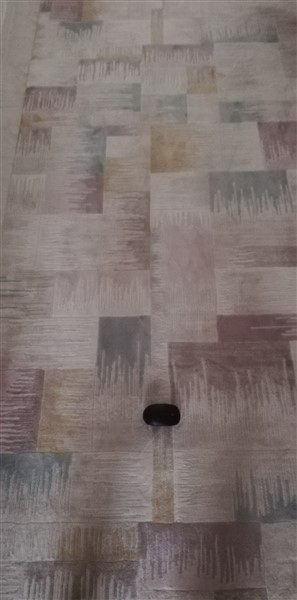mouse: (139, 396, 184, 432)
